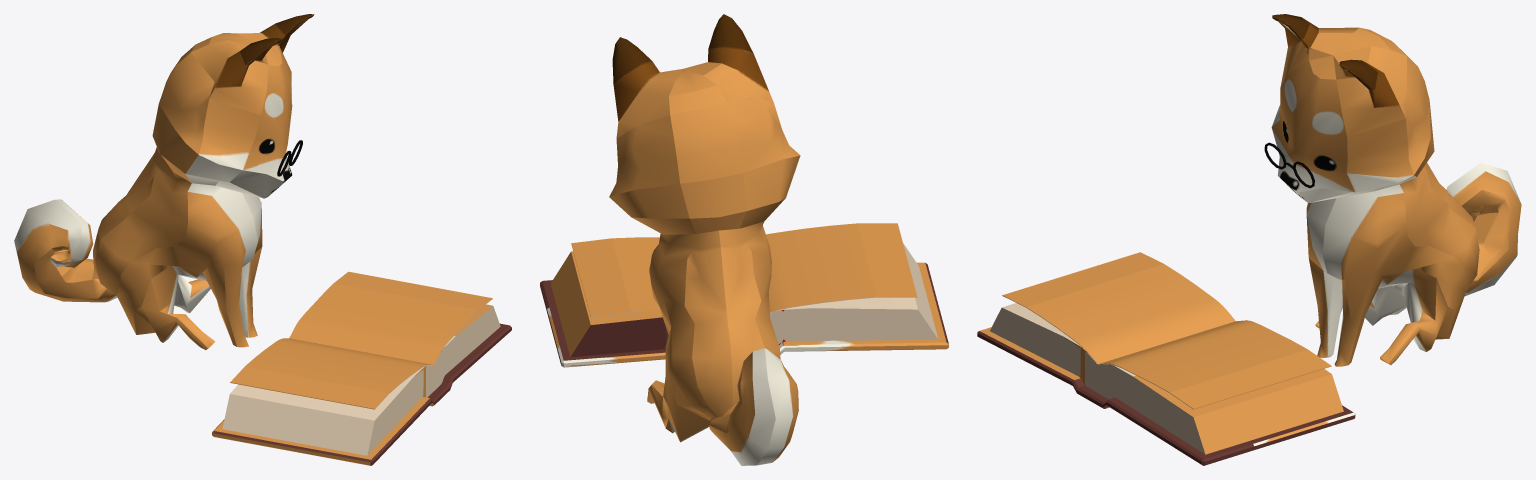
Rendered from book_frame4.obj.
The picture shows the model from 3 angles, left to right: view 1: azimuth 30°, elevation 25°; view 2: azimuth 150°, elevation 25°; view 3: azimuth 270°, elevation 25°; orthographic projection. The views are drawn at different scales.
Visible parts, largest first — view 1: StidyGlasses_Computer_Sitting:Sitting:newRigging:BodzL1, polySurface1; view 2: StidyGlasses_Computer_Sitting:Sitting:newRigging:BodzL1, polySurface1; view 3: StidyGlasses_Computer_Sitting:Sitting:newRigging:BodzL1, polySurface1.
Part boxes in pixels (bbox=[...]): StidyGlasses_Computer_Sitting:Sitting:newRigging:BodzL1: bbox=[14, 14, 314, 350]; polySurface1: bbox=[212, 271, 511, 465]; StidyGlasses_Computer_Sitting:Sitting:newRigging:BodzL1: bbox=[609, 14, 800, 465]; polySurface1: bbox=[540, 223, 948, 367]; StidyGlasses_Computer_Sitting:Sitting:newRigging:BodzL1: bbox=[1271, 14, 1521, 366]; polySurface1: bbox=[977, 252, 1355, 465].
Size of the model in its own units: 9.18 by 7.78 by 11.01.
Materials: 4 (4 with a texture image).
